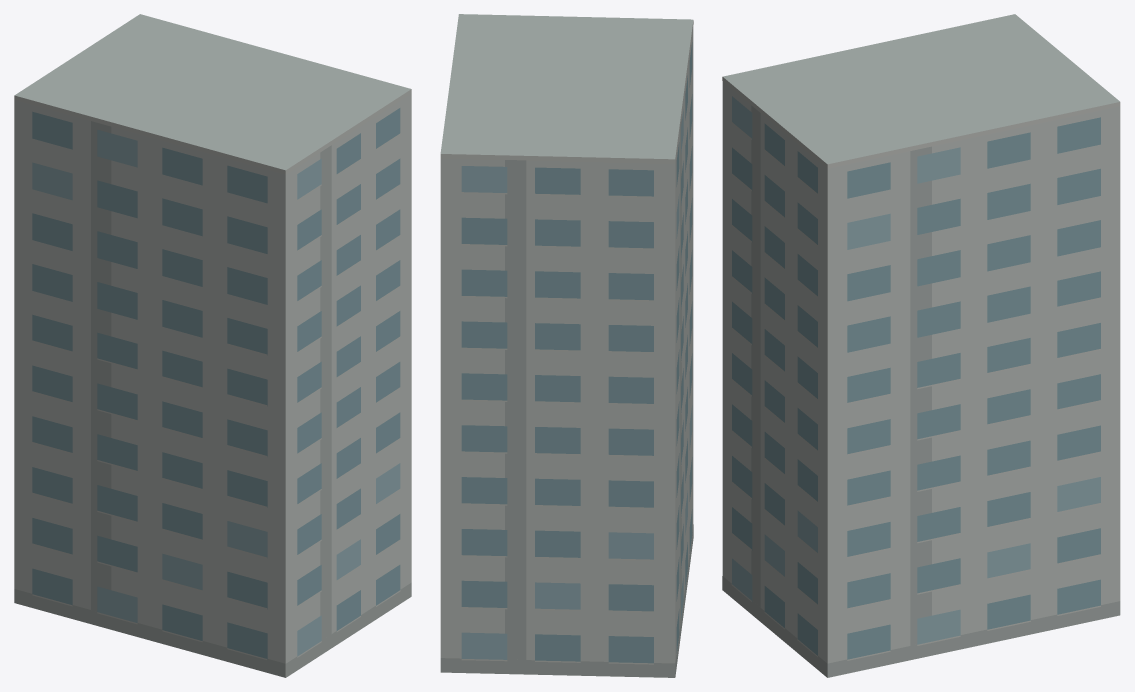
Rendered from residential-02de4dcd-e04b-4dc4-8c03-59176950cfde.glb.
3 renders of one model, left to right at view 1: azimuth 30°, elevation 25°; view 2: azimuth 150°, elevation 25°; view 3: azimuth 270°, elevation 25°, orthographic. The views are drawn at different scales.
Visible parts, largest first — view 1: residential-02de4dcd-e04b-4dc4-8c03-59176950cfde.tmp; view 2: residential-02de4dcd-e04b-4dc4-8c03-59176950cfde.tmp; view 3: residential-02de4dcd-e04b-4dc4-8c03-59176950cfde.tmp.
Boxes of the visible parts, x1=… form: residential-02de4dcd-e04b-4dc4-8c03-59176950cfde.tmp: x1=14, y1=14, x2=411, y2=677; residential-02de4dcd-e04b-4dc4-8c03-59176950cfde.tmp: x1=440, y1=14, x2=693, y2=677; residential-02de4dcd-e04b-4dc4-8c03-59176950cfde.tmp: x1=722, y1=14, x2=1120, y2=677.
Size of the model in its own units: 17.59 by 28 by 19.67.
